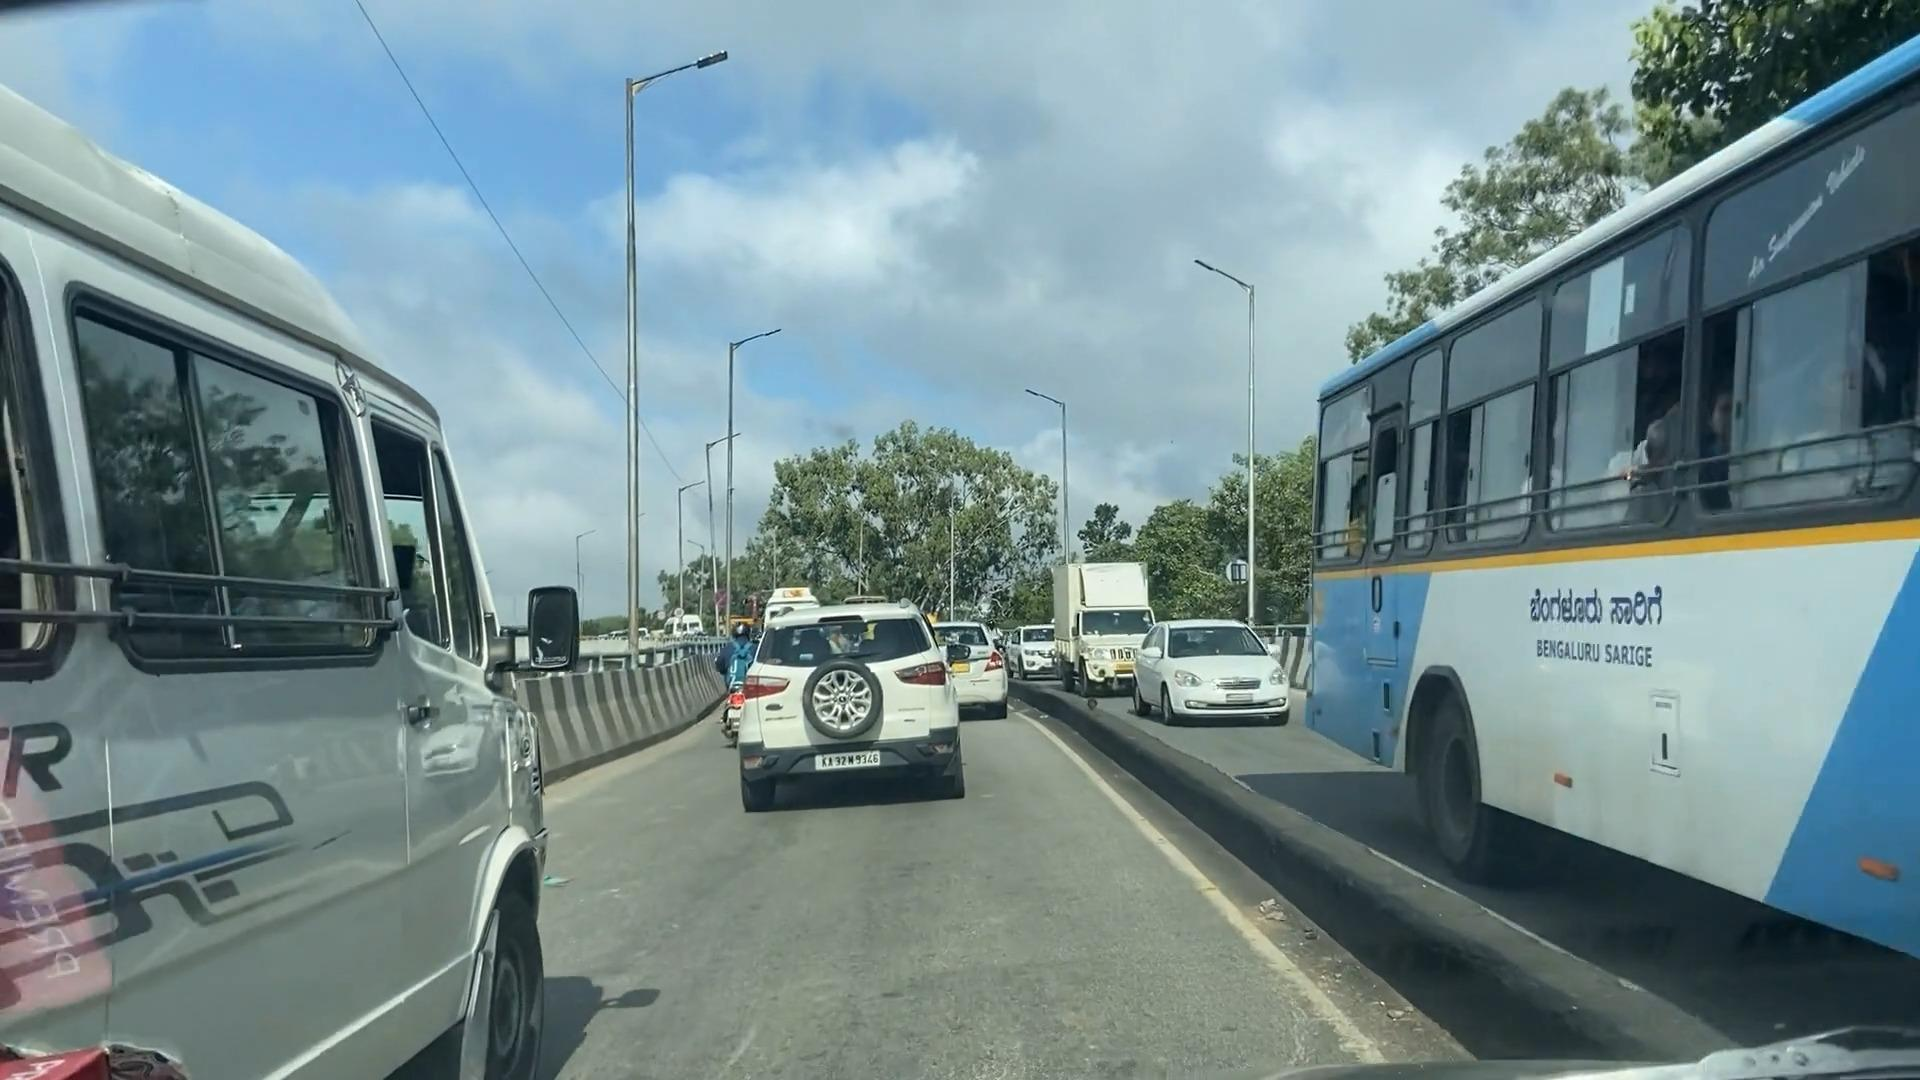LMV: (735, 612, 963, 793)
